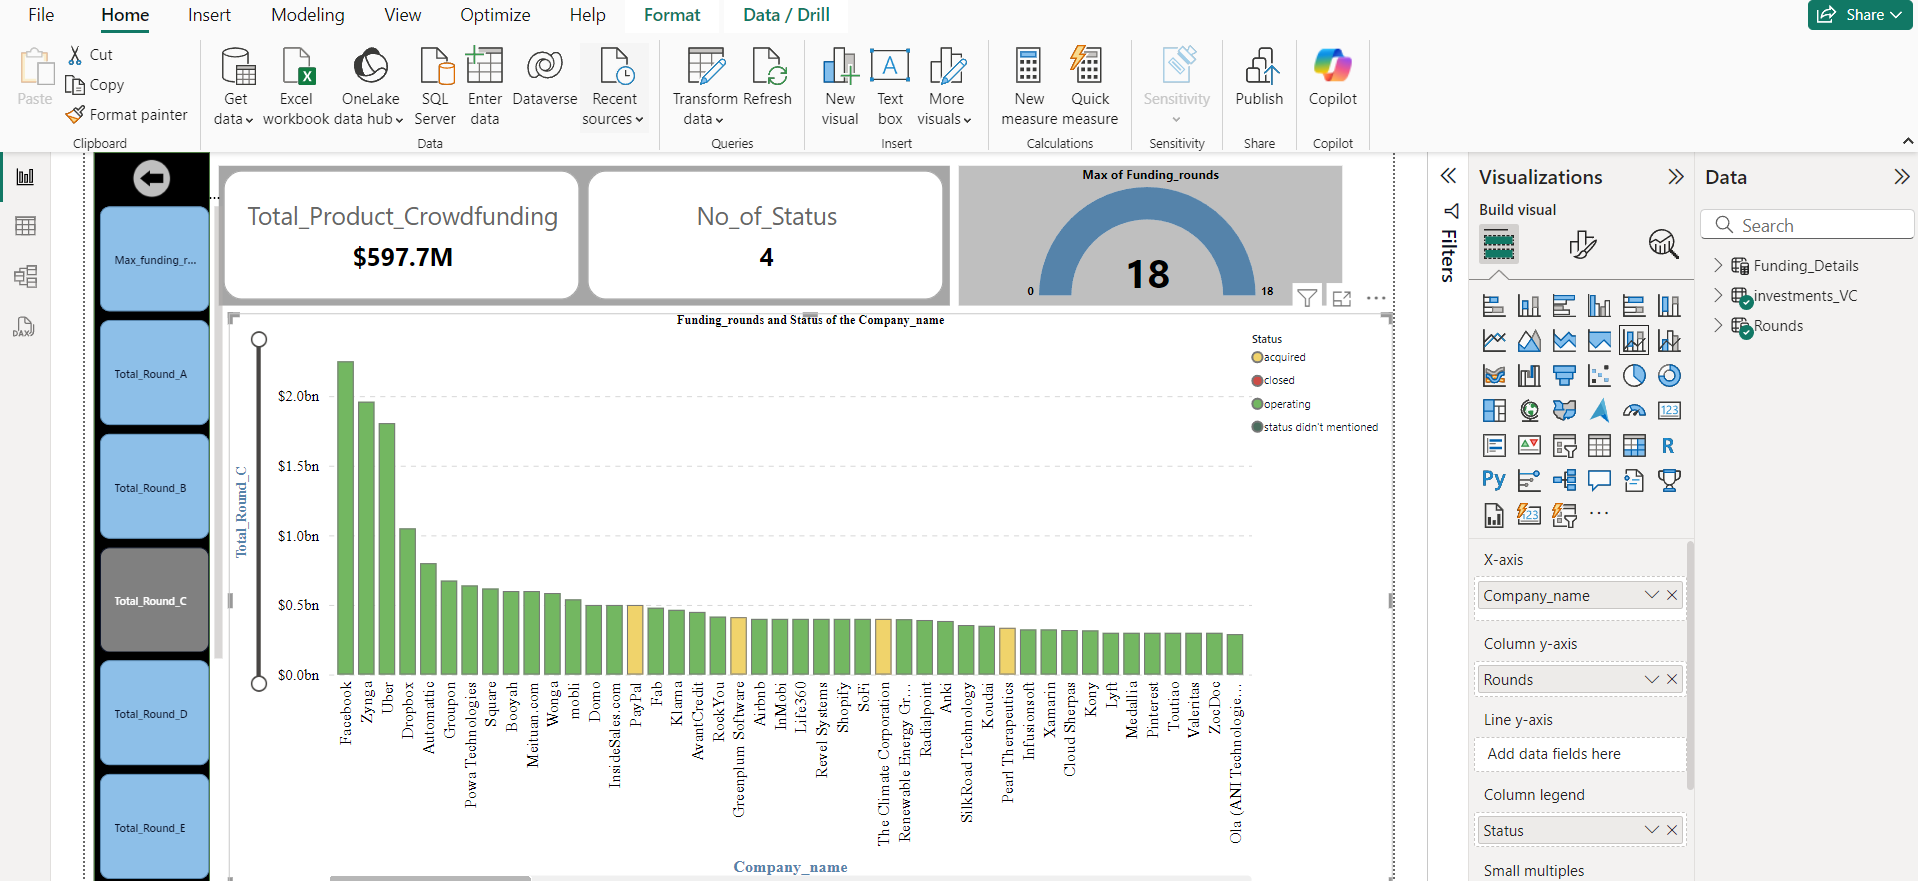

The page's visual inventory and layout, read from the dashboard file:
{"tool":"powerbi","page":{"name":"Page 2","canvas":[1280,720],"ordinal":1},"visuals":[{"type":"shape","box":[9.2,0,113.7,1080.4],"z":0},{"type":"cardVisual","fields":{"Data":["investments_VC.Total_Product_Crowdfunding","investments_VC.Distinct"]},"box":[130.8,13.5,715.4,137],"z":1000},{"type":"kpi","box":[1287.6,34.9,533.8,394.4],"z":2000},{"type":"gauge","title":"Max of Funding_rounds","fields":{"Y":["Max(investments_VC.Funding_rounds)"],"MaxValue":["investments_VC.Max_funding_rounds"]},"box":[854.8,13.5,375.4,137],"z":3000},{"type":"lineStackedColumnComboChart","title":"Funding_rounds and Status of the Company_name","fields":{"Y":["investments_VC.Max_funding_rounds"],"Category":["investments_VC.Company_name"],"Series":["investments_VC.Status"]},"box":[140.8,157.1,1138.8,563.3],"z":4000},{"type":"advancedSlicerVisual","title":"Total Rounds with Companies","fields":{"Values":["Rounds.Rounds"]},"box":[10,35,130,685],"z":5000},{"type":"image","box":[41.6,0,47.7,51.4],"z":6000}]}

Visuals, with their boxes on the page's 1280x720 design canvas (x1, y1, x2, y2). These are canvas units, not pixel positions in the 1918x881 screenshot, which may show the page scaled, cropped or inside an application window:
shape: [left=9, top=0, right=123, bottom=1080]
cardVisual - investments_VC.Total_Product_Crowdfunding x investments_VC.Distinct: [left=131, top=14, right=846, bottom=150]
kpi: [left=1288, top=35, right=1821, bottom=429]
"Max of Funding_rounds" gauge: [left=855, top=14, right=1230, bottom=150]
"Funding_rounds and Status of the Company_name" lineStackedColumnComboChart: [left=141, top=157, right=1280, bottom=720]
"Total Rounds with Companies" advancedSlicerVisual: [left=10, top=35, right=140, bottom=720]
image: [left=42, top=0, right=89, bottom=51]
